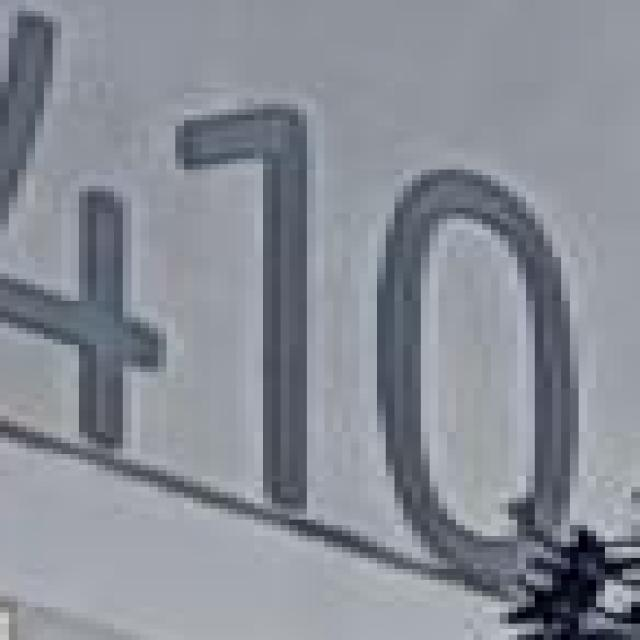character: (359, 162, 590, 602), (0, 4, 179, 457), (168, 90, 322, 518)
